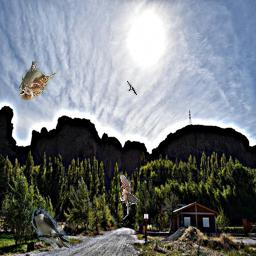Sparrow: (19, 61, 56, 101), (120, 175, 138, 215)
Swallow: (32, 209, 70, 249), (127, 81, 137, 95)
